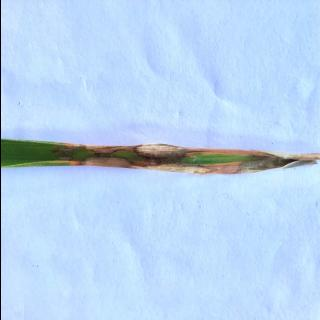Hawar-Daun: (82, 154, 242, 176), (131, 142, 269, 162), (284, 150, 320, 176), (83, 146, 129, 158), (56, 144, 80, 152)
